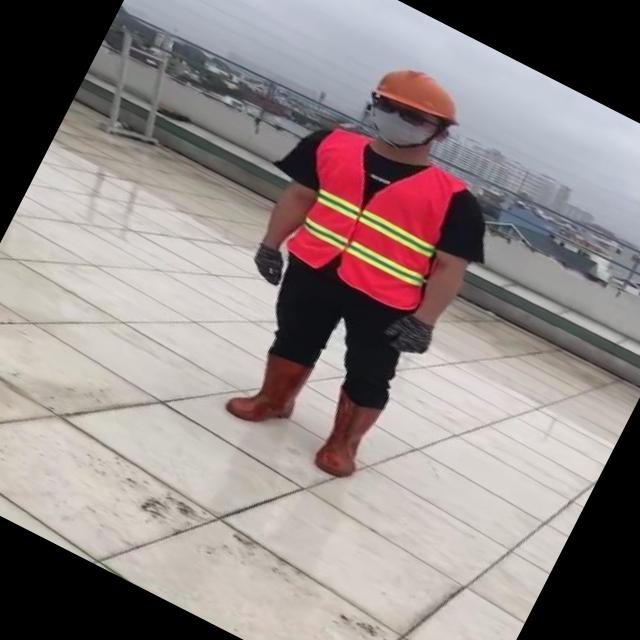hard_hat: (362, 48, 473, 134)
safety_vest: (274, 121, 478, 318)
vehicle: (144, 22, 554, 508)
work_boots: (226, 342, 316, 441), (304, 389, 388, 486)
